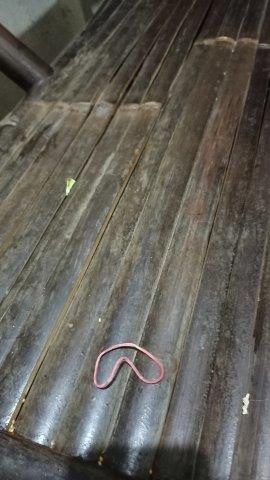karet: (93, 342, 165, 389)
